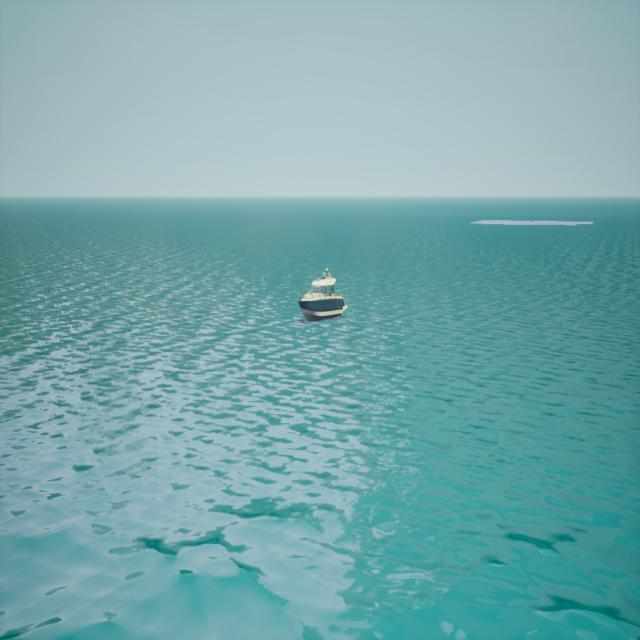ship: (297, 266, 347, 319)
